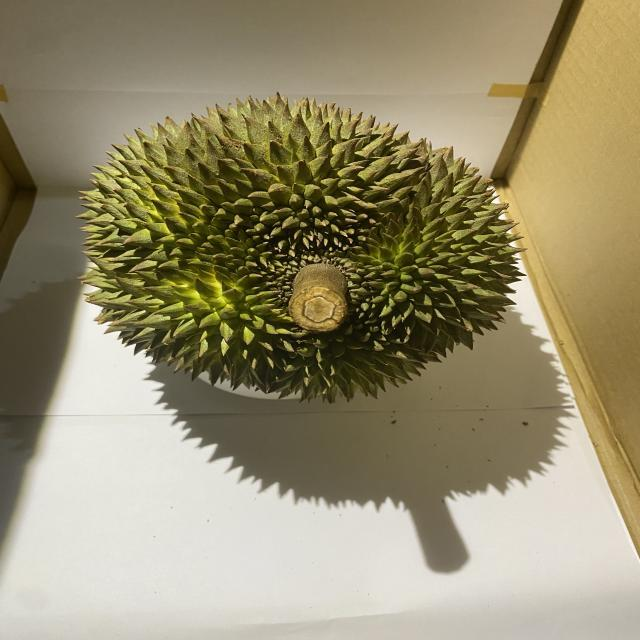immature: (75, 91, 526, 407)
